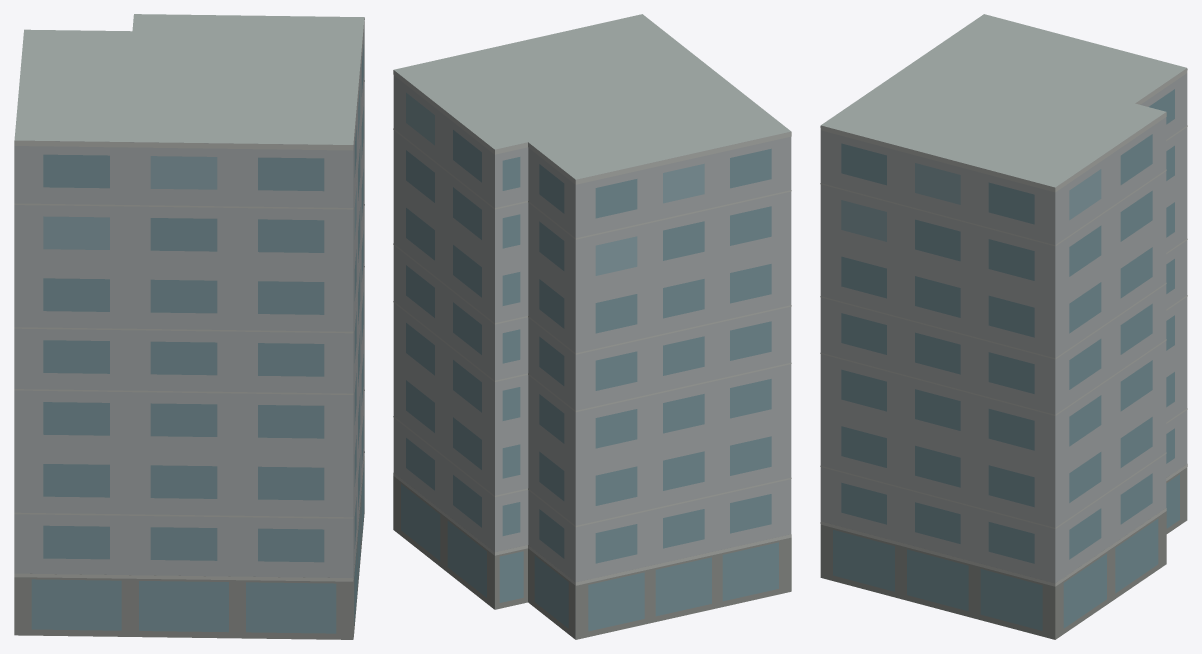
The model's file is survey-upis-32942976.glb.
3 renders of one model, left to right at view 1: azimuth 30°, elevation 25°; view 2: azimuth 150°, elevation 25°; view 3: azimuth 270°, elevation 25°, orthographic. The views are drawn at different scales.
Parts seen in each view (by area): view 1: survey-upis-32942976.tmp; view 2: survey-upis-32942976.tmp; view 3: survey-upis-32942976.tmp.
Boxes of the visible parts, x1,y1,x2,y2 form: survey-upis-32942976.tmp: (14,14,364,639); survey-upis-32942976.tmp: (393,14,791,639); survey-upis-32942976.tmp: (820,14,1187,639).
Size of the model in its own units: 18.29 by 22.2 by 16.33.
